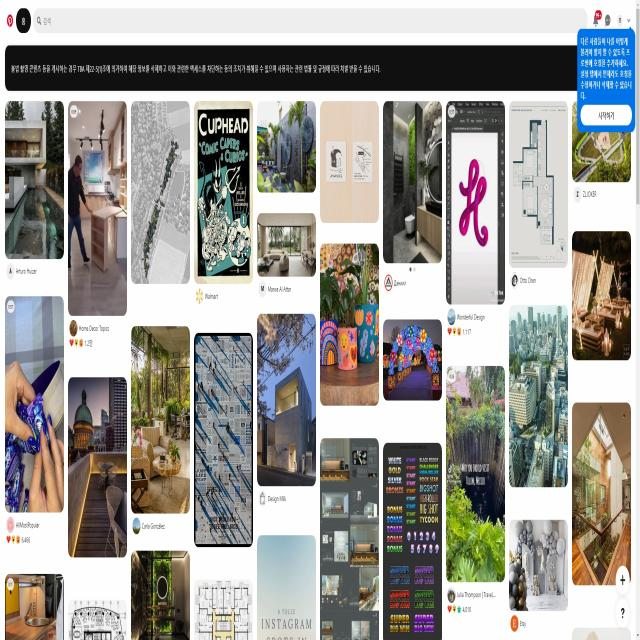menu-bar: (592, 7, 634, 28)
search: (31, 7, 589, 37)
tab-bar: (2, 6, 30, 34)
